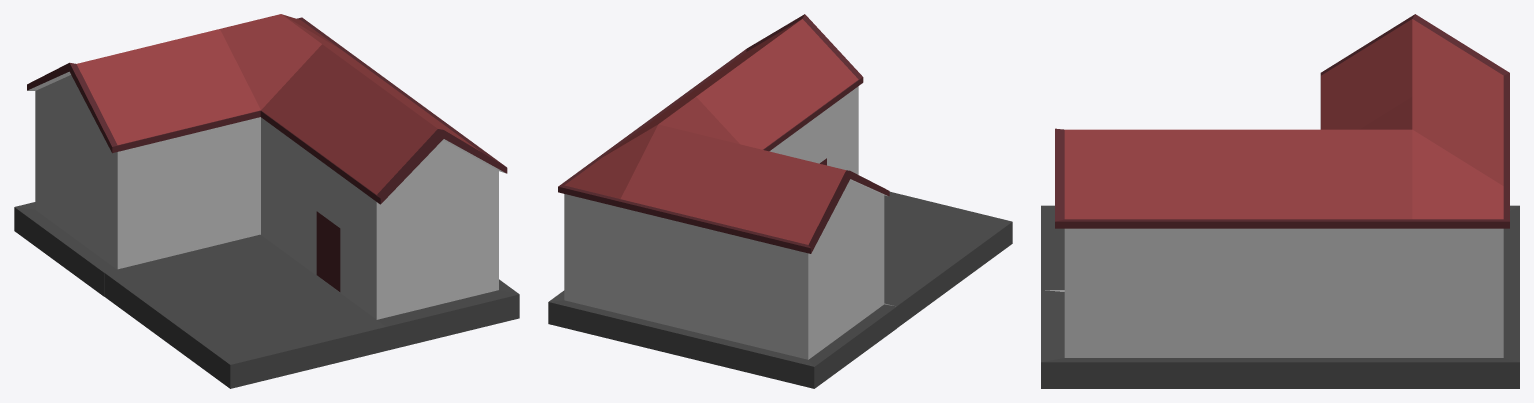
Rendered from Casa4.fbx.
3 views of the same model, side by side, from view 1: azimuth 30°, elevation 25°; view 2: azimuth 150°, elevation 25°; view 3: azimuth 270°, elevation 25° (orthographic). The views are drawn at different scales.
Parts seen in each view (by area): view 1: Casa4; view 2: Casa4; view 3: Casa4.
Part boxes in pixels (left/top/right/bottom): Casa4: left=14, top=14, right=519, bottom=388; Casa4: left=548, top=14, right=1012, bottom=388; Casa4: left=1041, top=14, right=1519, bottom=388.
Size of the model in its own units: 2.84 by 1.88 by 3.67.
